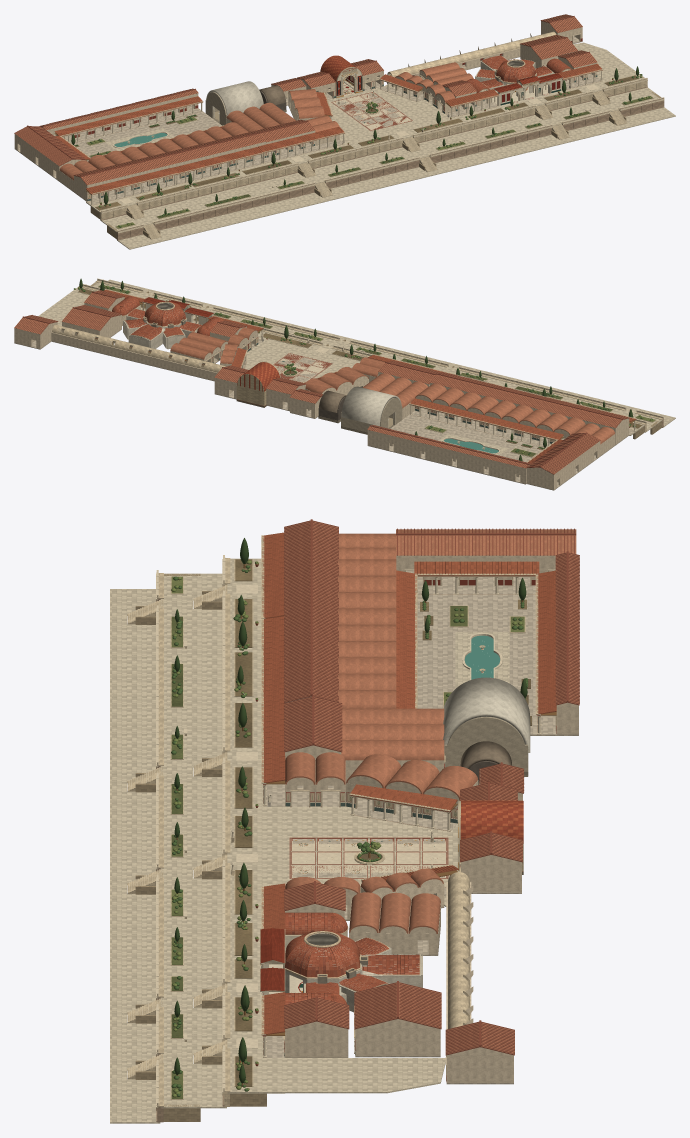
File: oppian_s3.glb
3 views of the same model, one above another, from view 1: azimuth 30°, elevation 25°; view 2: azimuth 150°, elevation 25°; view 3: azimuth 270°, elevation 25° (orthographic). The views are drawn at different scales.
Parts seen in each view (by area): view 1: S3_terraces, S3_court-wings, S3_west-peristyle, S3_south-portico, S3_octagon, S3_garden-objects, S3_west-axis-44-45, S3_cryptoporticus-92, S3_golden-vault-80, S3_west-basin; view 2: S3_west-peristyle, S3_court-wings, S3_terraces, S3_octagon, S3_cryptoporticus-92, S3_west-axis-44-45, S3_garden-objects, S3_golden-vault-80, S3_south-portico, S3_west-basin, S3_hector-129; view 3: S3_terraces, S3_court-wings, S3_west-peristyle, S3_south-portico, S3_octagon, S3_garden-objects, S3_west-axis-44-45, S3_cryptoporticus-92, S3_golden-vault-80, S3_west-basin, S3_achilles-119, S3_west-water.
Part boxes in pixels (x1,y1,x2,y2): S3_terraces: [86, 68, 675, 249]; S3_court-wings: [226, 14, 631, 157]; S3_west-peristyle: [14, 88, 266, 201]; S3_south-portico: [86, 63, 603, 205]; S3_octagon: [475, 55, 563, 106]; S3_garden-objects: [98, 66, 653, 229]; S3_west-axis-44-45: [205, 81, 286, 125]; S3_cryptoporticus-92: [387, 30, 556, 87]; S3_golden-vault-80: [320, 55, 362, 98]; S3_west-basin: [105, 128, 174, 150]; S3_west-peristyle: [367, 372, 629, 490]; S3_court-wings: [14, 290, 441, 419]; S3_terraces: [65, 278, 675, 439]; S3_octagon: [123, 297, 214, 349]; S3_cryptoporticus-92: [51, 324, 226, 381]; S3_west-axis-44-45: [318, 386, 402, 434]; S3_garden-objects: [74, 278, 655, 427]; S3_golden-vault-80: [236, 361, 280, 407]; S3_south-portico: [103, 289, 636, 435]; S3_west-basin: [438, 433, 508, 455]; S3_hector-129: [111, 296, 140, 325]; S3_terraces: [110, 555, 285, 1123]; S3_court-wings: [283, 695, 524, 1093]; S3_west-peristyle: [284, 519, 579, 735]; S3_south-portico: [261, 532, 285, 1057]; S3_octagon: [260, 928, 422, 1018]; S3_garden-objects: [170, 538, 270, 1099]; S3_west-axis-44-45: [443, 677, 530, 784]; S3_cryptoporticus-92: [446, 872, 473, 1029]; S3_golden-vault-80: [457, 800, 523, 874]; S3_west-basin: [455, 632, 509, 688]; S3_achilles-119: [285, 912, 348, 936]; S3_west-water: [464, 635, 500, 679].
Bounding box in the file's own units: 233 × 18.32 × 86.69.
90 materials, 50 textured.
